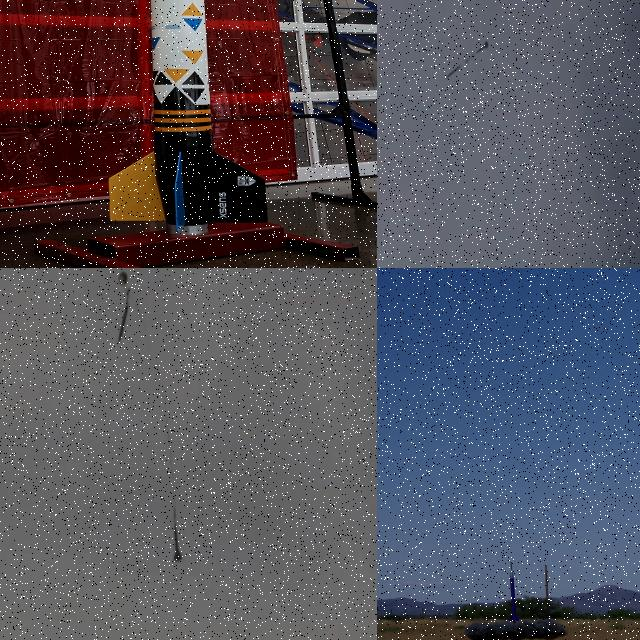Rocket: (108, 0, 268, 233), (445, 42, 488, 80), (509, 569, 520, 622), (174, 525, 181, 561)
